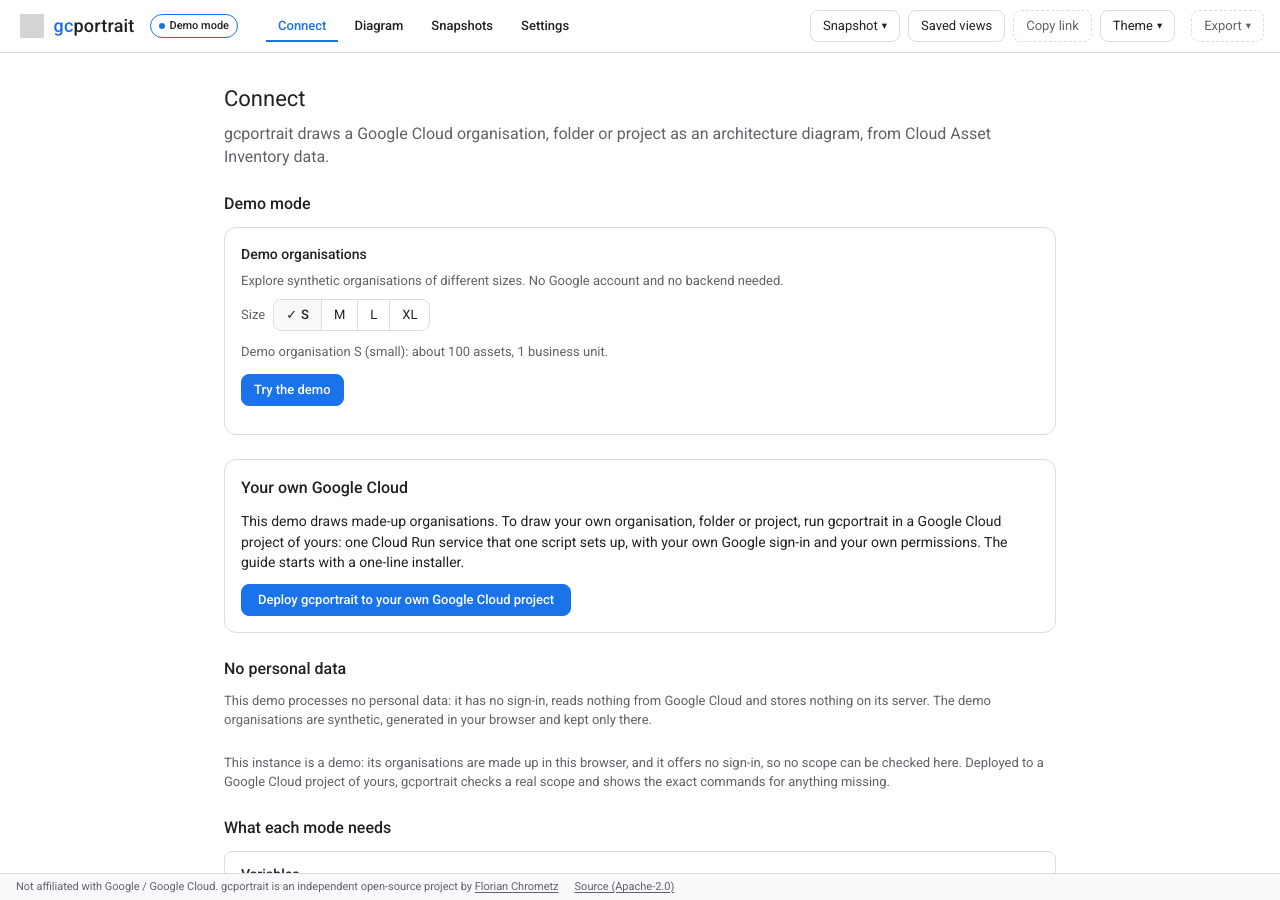
Scenario: routing › navigates with the primary navigation
Step 1. Click the link "Settings" → (545, 25), box [521,18,569,33]
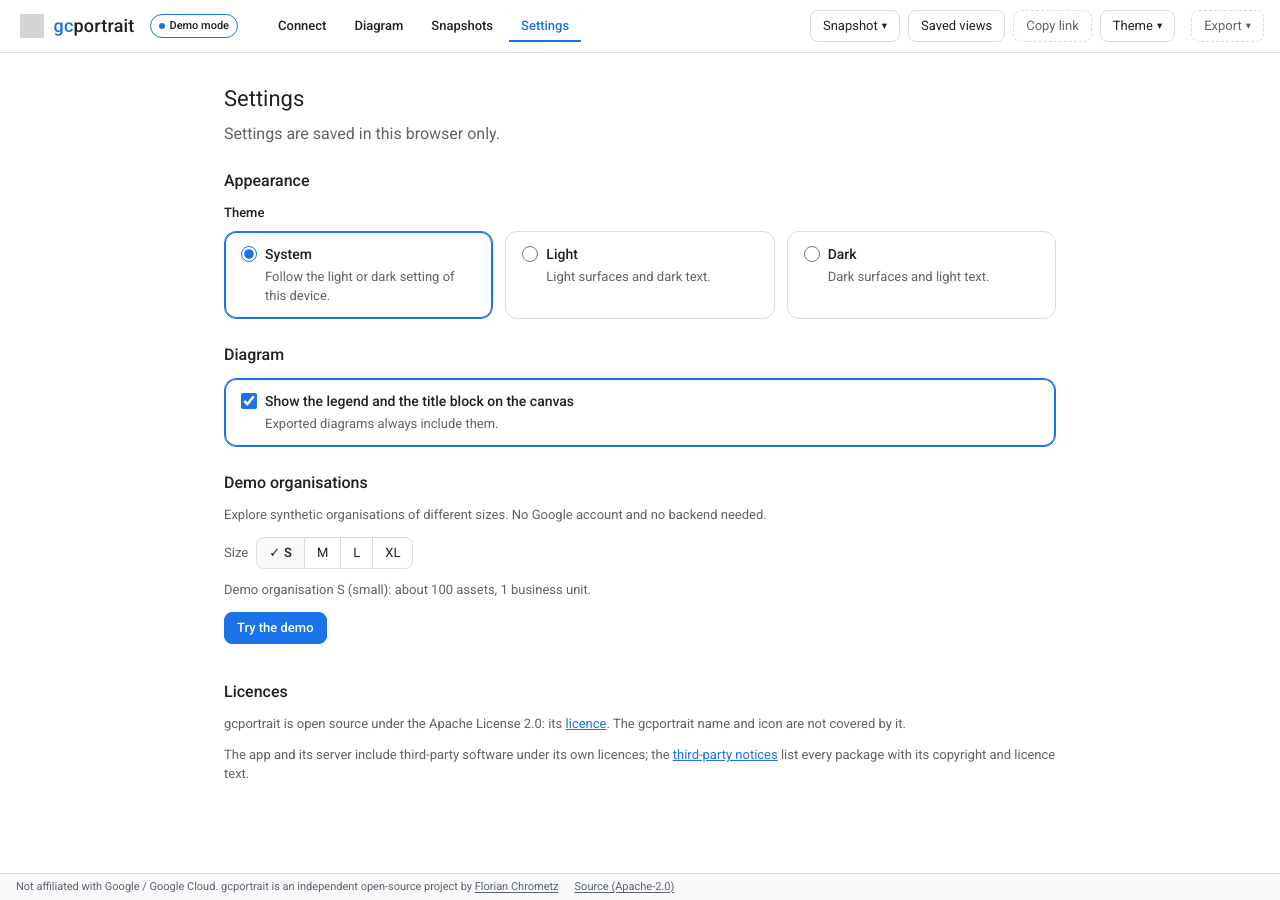
Expected: the heading "Settings" is shown, [224,86,304,111]
